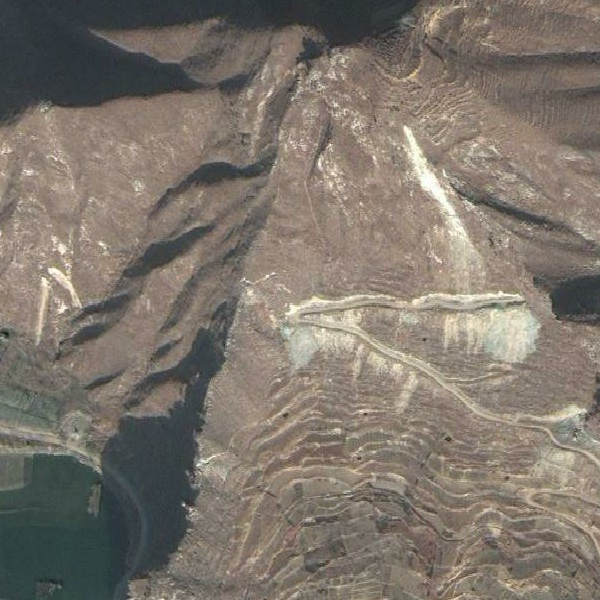slope: (280, 324, 424, 412), (404, 124, 480, 247), (436, 303, 541, 365), (45, 260, 91, 310), (26, 275, 52, 347)
